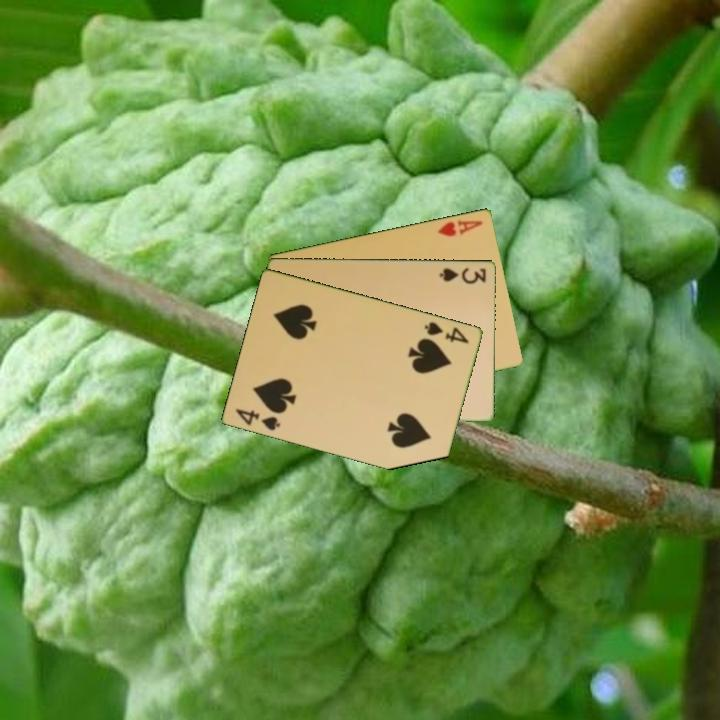3s: (436, 264, 489, 286)
4s: (421, 318, 472, 346), (233, 405, 283, 433)
Ah: (434, 216, 486, 239)
